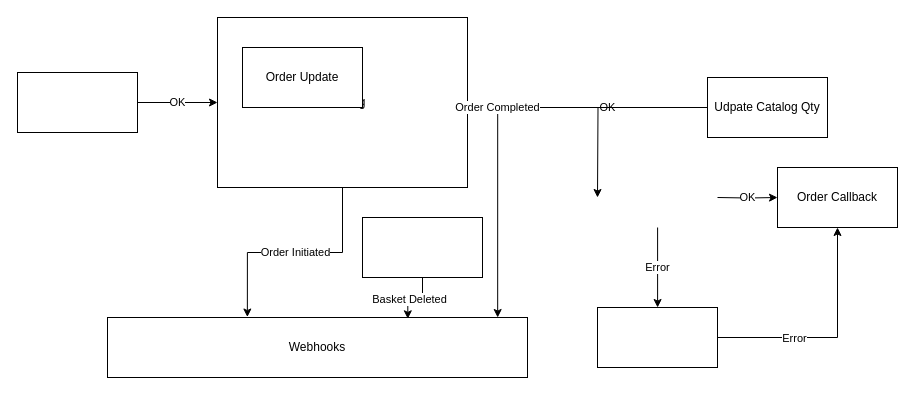
The diagram is 915 pixels wide and 395 high, and some of its shapes have lost their labels. The shapes that lost their labels are listed below. From the top down, each one's centre as x and y in pixels, then its label:
At point 77,102: "Checkout".
At point 422,247: "Delete Basket".
At point 657,337: "Revert Catalog Qty".
